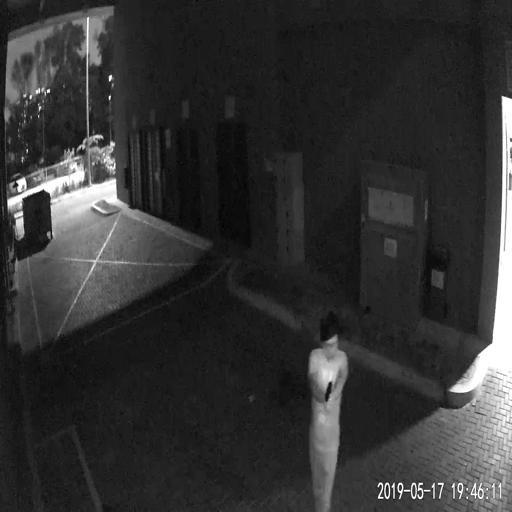Handgun: (322, 379, 331, 408)
